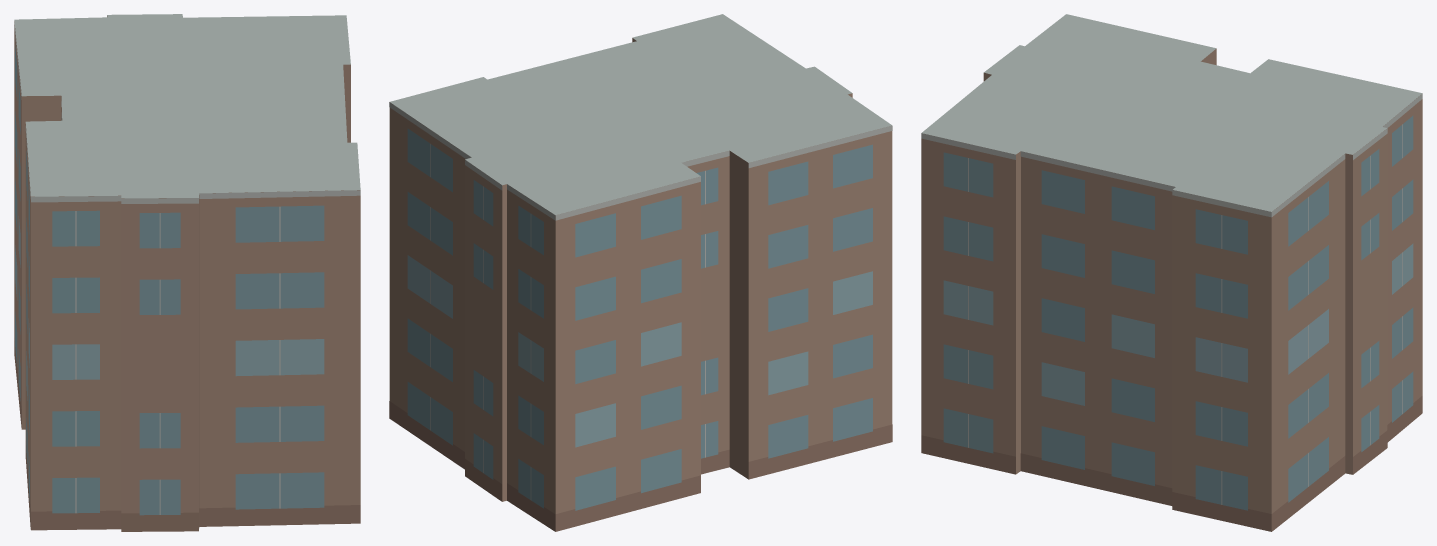
The model's file is survey-upis-32846965.glb.
3 views of the same model, side by side, from view 1: azimuth 30°, elevation 25°; view 2: azimuth 150°, elevation 25°; view 3: azimuth 270°, elevation 25° (orthographic). The views are drawn at different scales.
Visible parts, largest first — view 1: survey-upis-32846965.tmp; view 2: survey-upis-32846965.tmp; view 3: survey-upis-32846965.tmp.
Part boxes in pixels (x1=…): survey-upis-32846965.tmp: x1=14, y1=14, x2=360, y2=531; survey-upis-32846965.tmp: x1=389, y1=14, x2=892, y2=531; survey-upis-32846965.tmp: x1=921, y1=14, x2=1422, y2=531.
Size of the model in its own units: 18.98 by 14.3 by 20.32.
